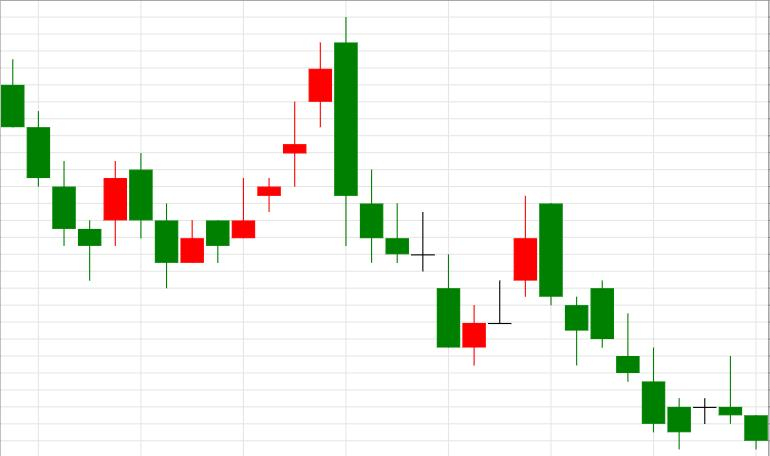bearish_engulfing_fall: (232, 18, 358, 247)
morning_star_rise: (0, 59, 127, 281)
